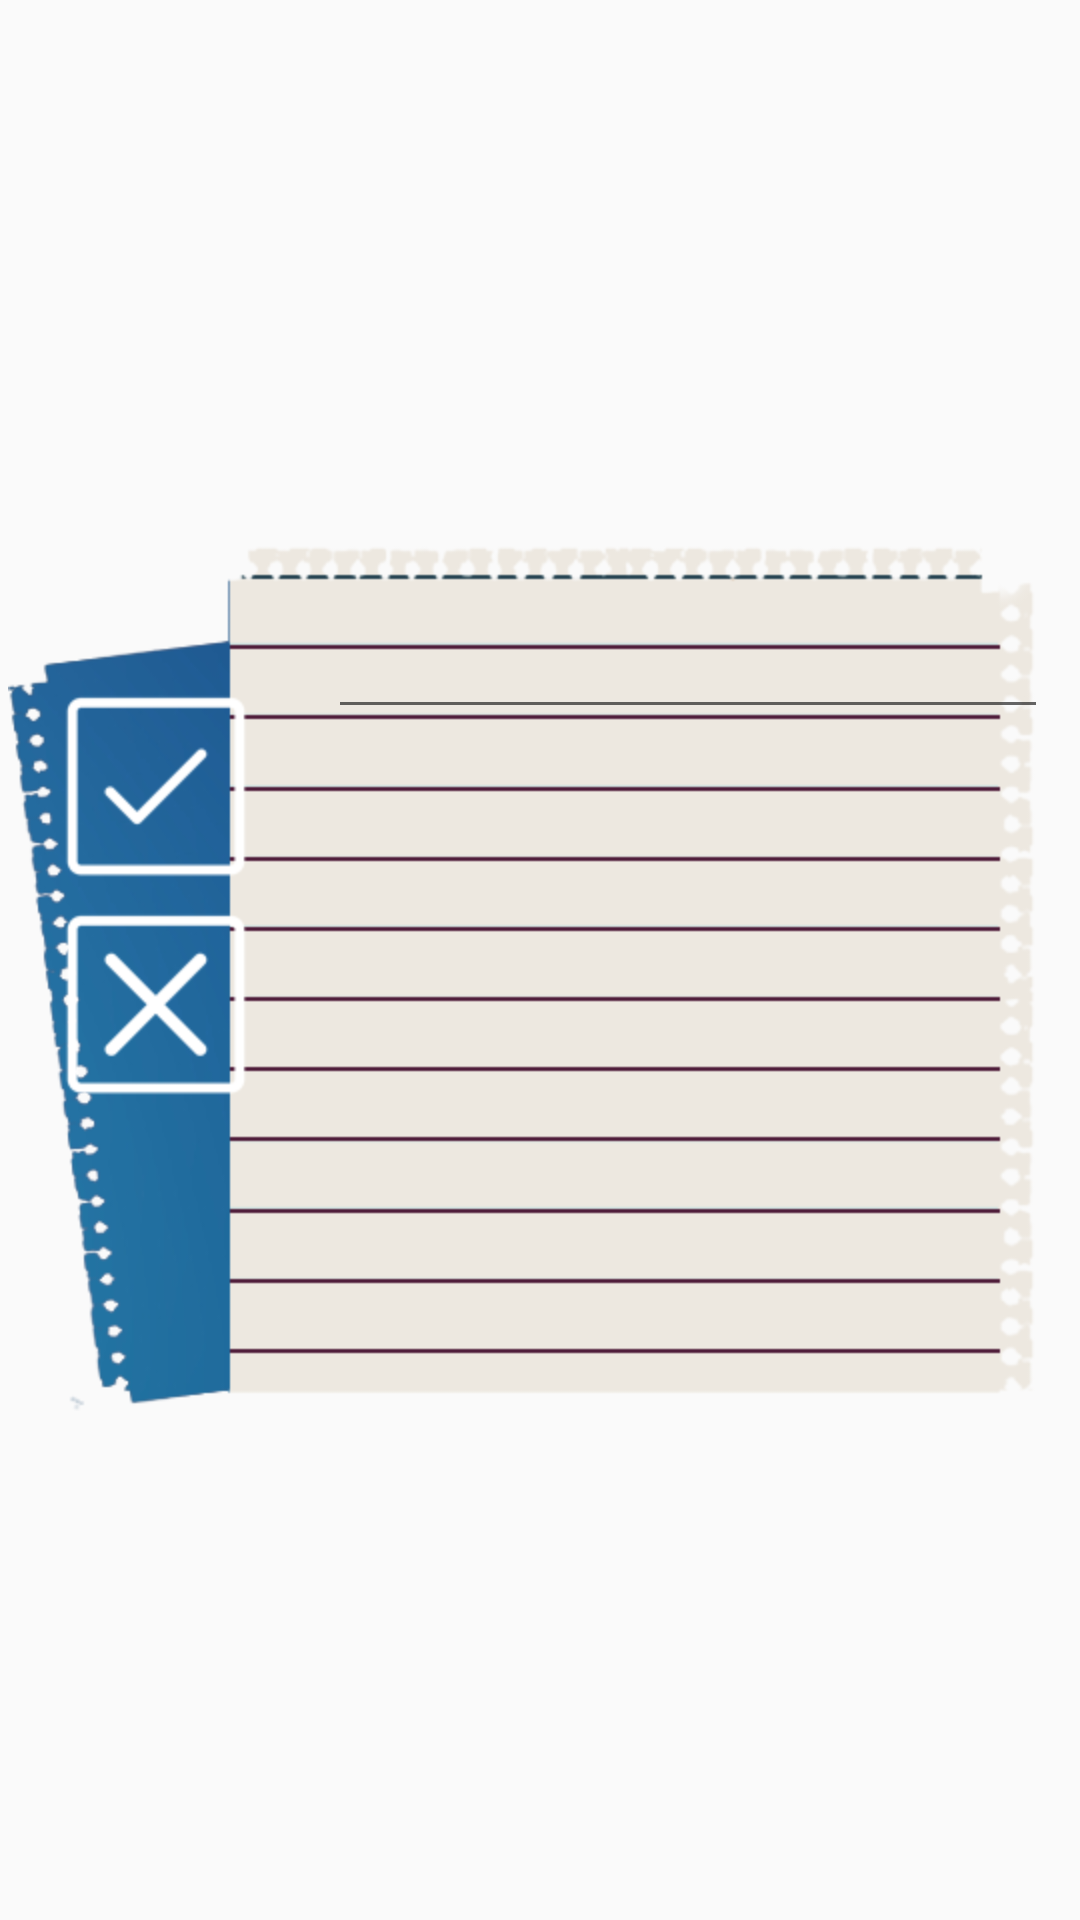

Icon click points for this 1080 × 1920 phone screenshot, format point (x, y):
cancel: point (156, 1004)
done: point (156, 786)
